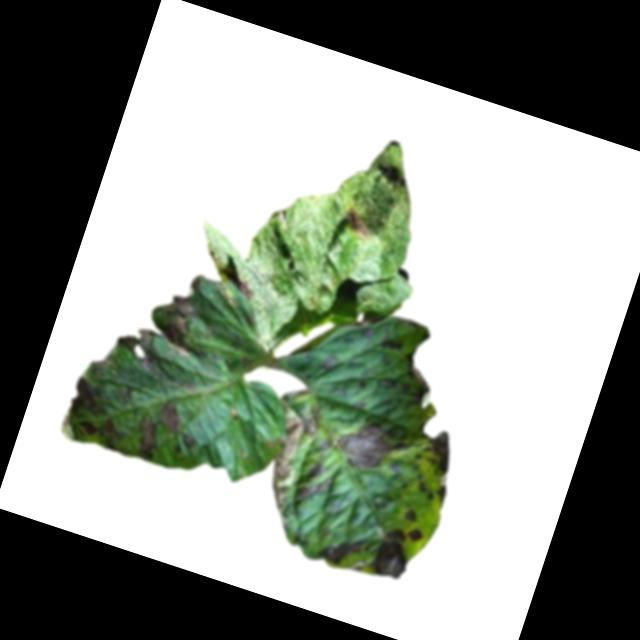Early_blight: (58, 355, 137, 454), (256, 396, 320, 513), (327, 408, 412, 481), (156, 266, 215, 345), (408, 426, 465, 505), (107, 320, 179, 382), (364, 517, 423, 583), (127, 414, 168, 463), (292, 464, 333, 509), (318, 529, 363, 570), (336, 203, 376, 242), (155, 396, 187, 436), (233, 275, 258, 300), (378, 333, 406, 355), (316, 350, 341, 374), (304, 460, 325, 482), (400, 504, 423, 524)
